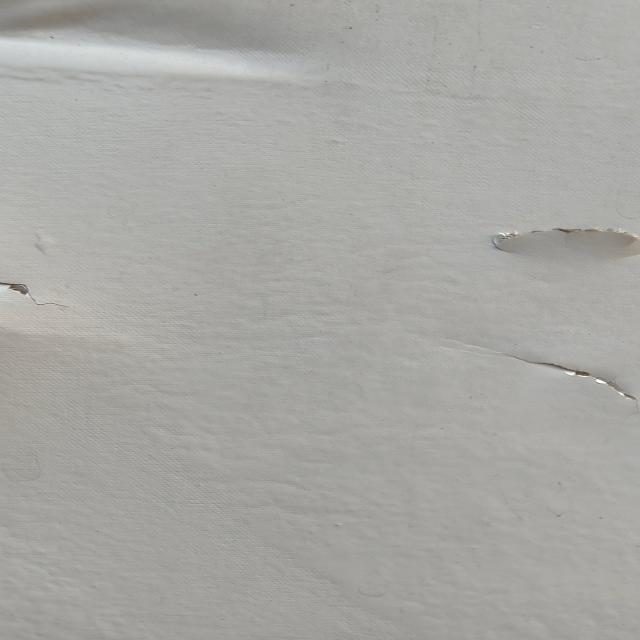Dents or Deformation: (1, 1, 402, 105)
Scratches: (445, 192, 640, 271), (457, 335, 640, 416), (1, 276, 90, 319)
